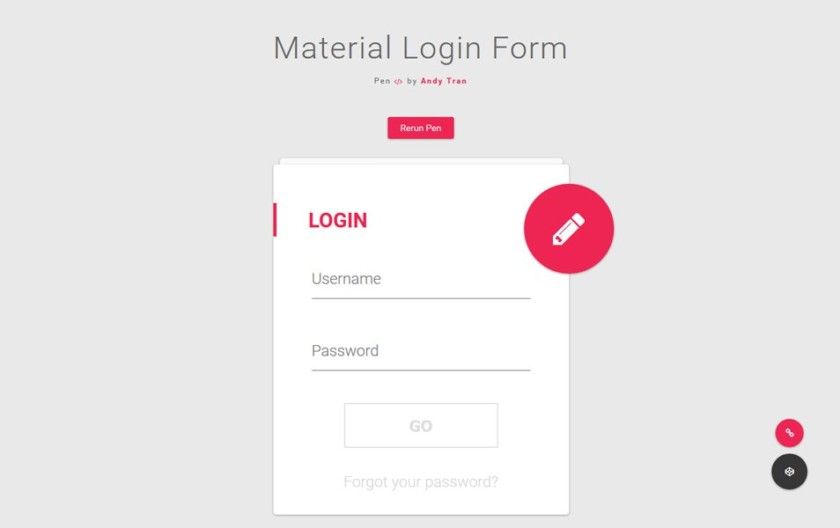_form_: (205, 110, 621, 526)
button: (342, 401, 501, 449), (385, 114, 458, 141)
field_line: (309, 265, 532, 303), (310, 341, 533, 374)
